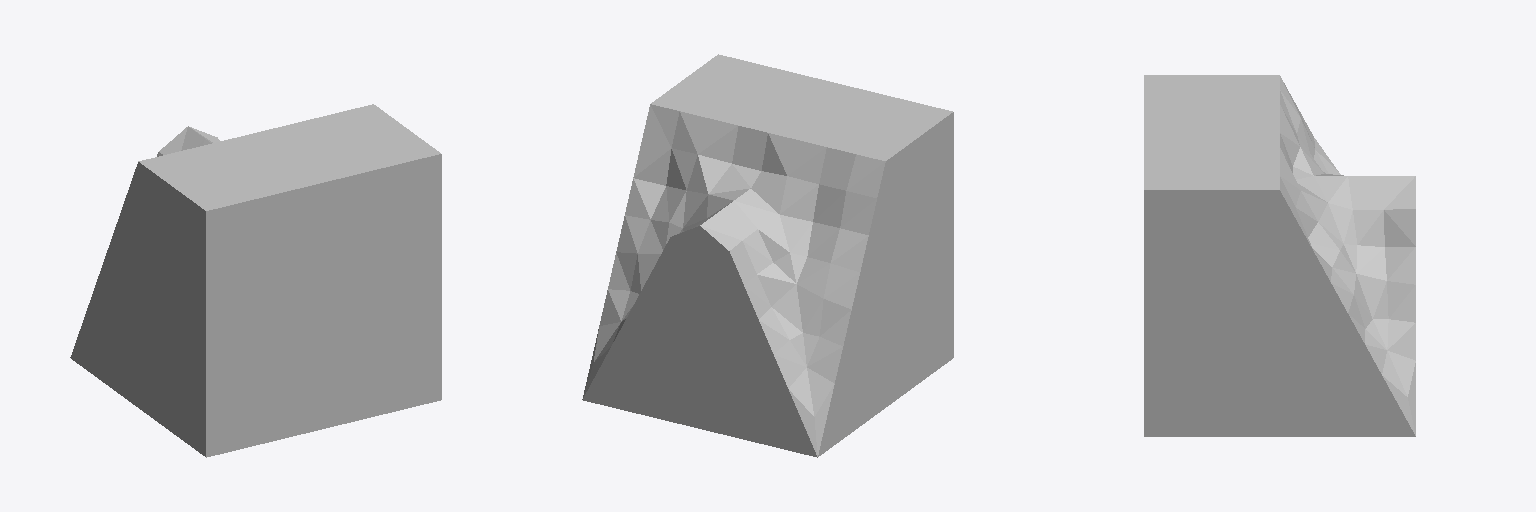
File: double_edge.obj
3 views of the same model, side by side, from view 1: azimuth 30°, elevation 25°; view 2: azimuth 150°, elevation 25°; view 3: azimuth 270°, elevation 25° (orthographic).
Parts seen in each view (by area): view 1: Cube.012_Cube.022; view 2: Cube.012_Cube.022; view 3: Cube.012_Cube.022.
Boxes of the visible parts, x1,y1,x2,y2 form: Cube.012_Cube.022: [70, 104, 441, 457]; Cube.012_Cube.022: [582, 54, 953, 457]; Cube.012_Cube.022: [1144, 75, 1415, 436].
Size of the model in its own units: 1 by 1 by 1.